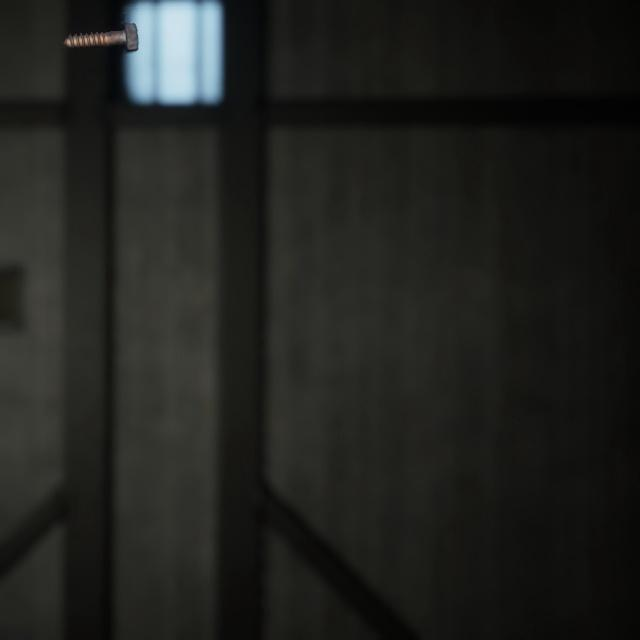bolt: (58, 10, 142, 47)
